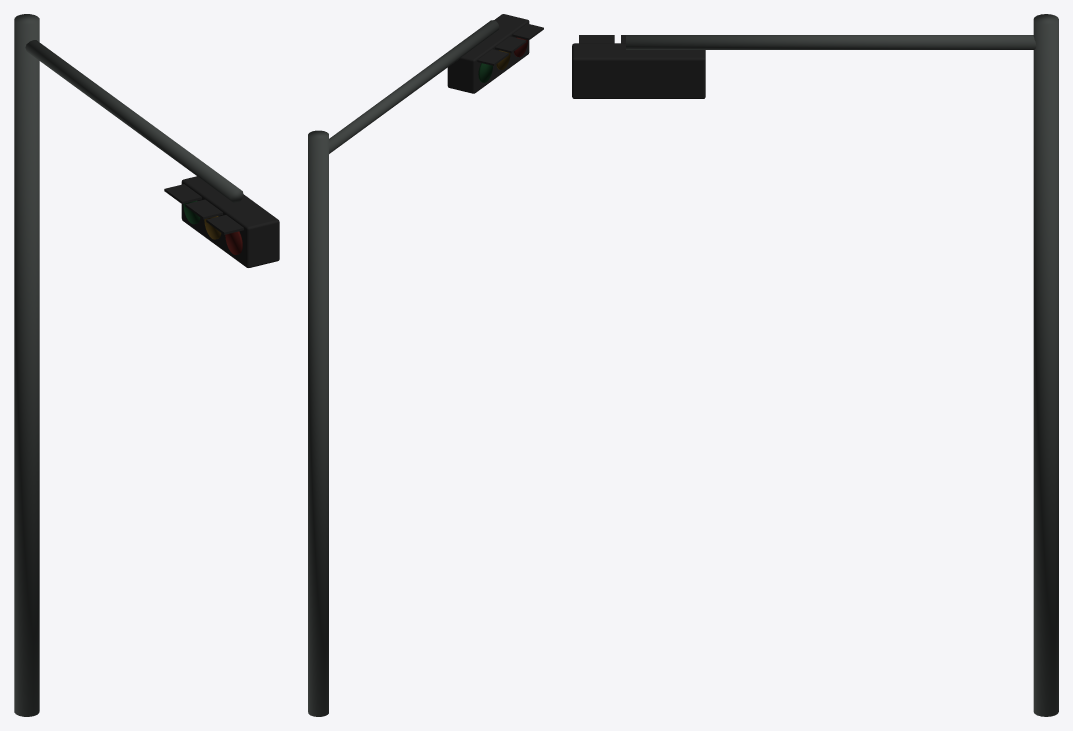
The model's file is traffic_light.glb.
3 renders of one model, left to right at view 1: azimuth 30°, elevation 25°; view 2: azimuth 150°, elevation 25°; view 3: azimuth 270°, elevation 25°, orthographic. The views are drawn at different scales.
Parts seen in each view (by area): view 1: traffic_light; view 2: traffic_light; view 3: traffic_light.
Part boxes in pixels (bbox=[...]): traffic_light: bbox=[14, 14, 279, 716]; traffic_light: bbox=[308, 14, 543, 716]; traffic_light: bbox=[572, 14, 1058, 716].
Size of the model in its own units: 0.48 by 6 by 3.82.
